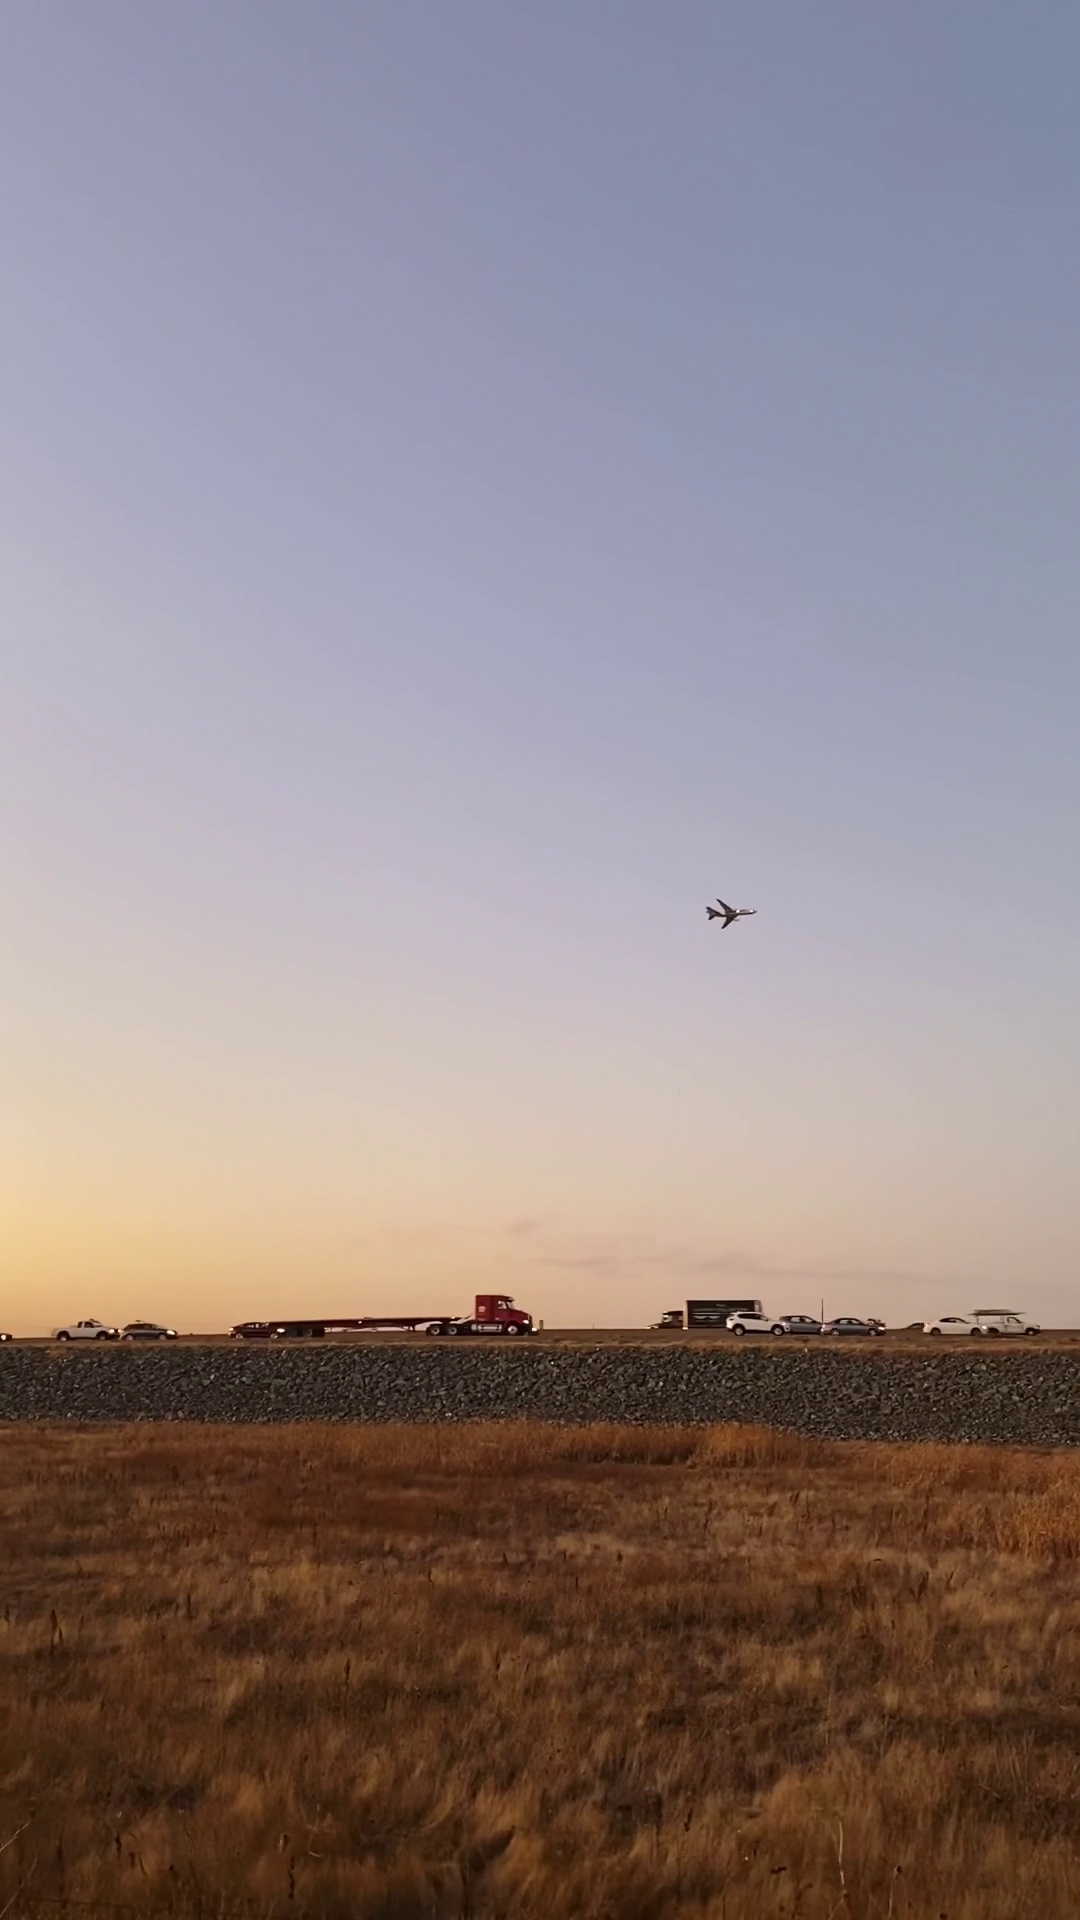plane: (705, 897, 758, 931)
